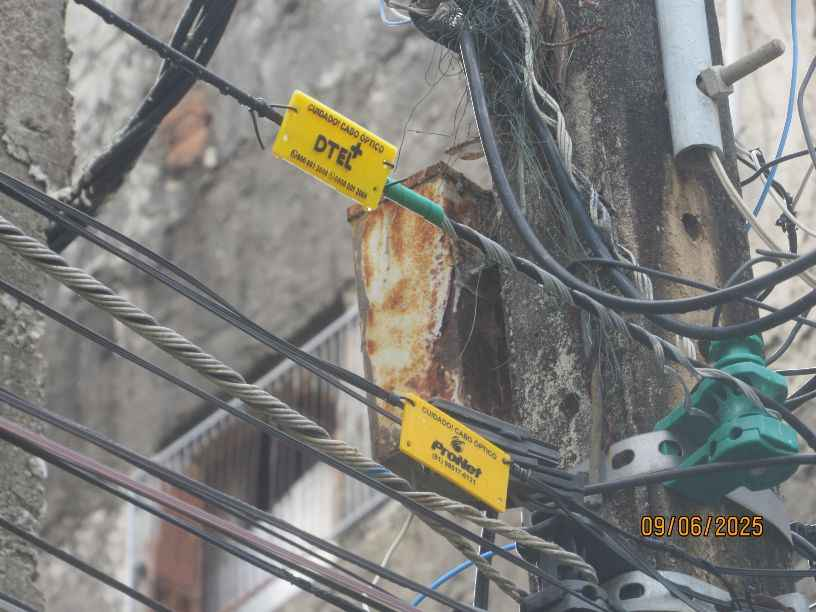fibra_optica: (267, 74, 398, 216), (392, 377, 517, 519)
